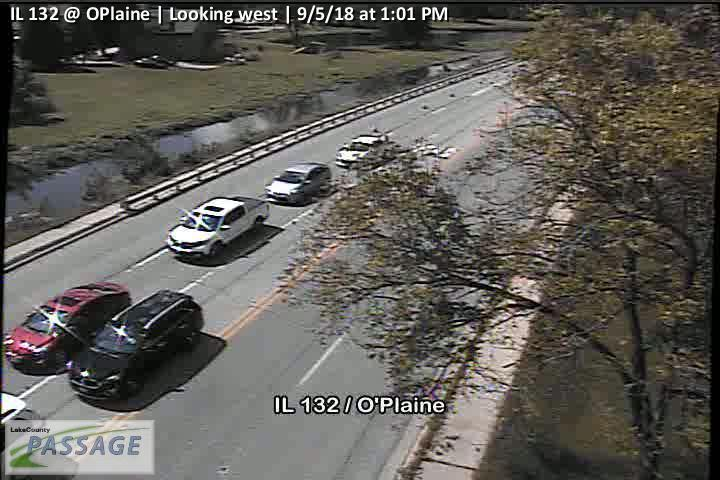SUV: (66, 289, 204, 404), (264, 161, 331, 205), (336, 132, 390, 169)
Sedan: (2, 280, 132, 375)
Truck: (166, 196, 270, 261)
